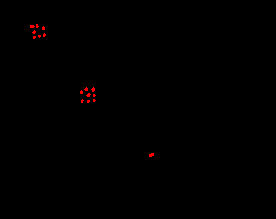Target: (91, 87, 95, 92), (86, 93, 91, 97), (149, 153, 154, 157), (32, 30, 36, 34), (84, 87, 88, 91), (30, 25, 35, 28), (36, 24, 39, 28), (42, 26, 45, 30), (43, 33, 46, 37), (80, 90, 83, 94), (81, 99, 84, 103), (38, 35, 41, 38), (33, 36, 36, 39), (93, 94, 96, 97), (93, 99, 96, 102), (87, 100, 90, 103)
